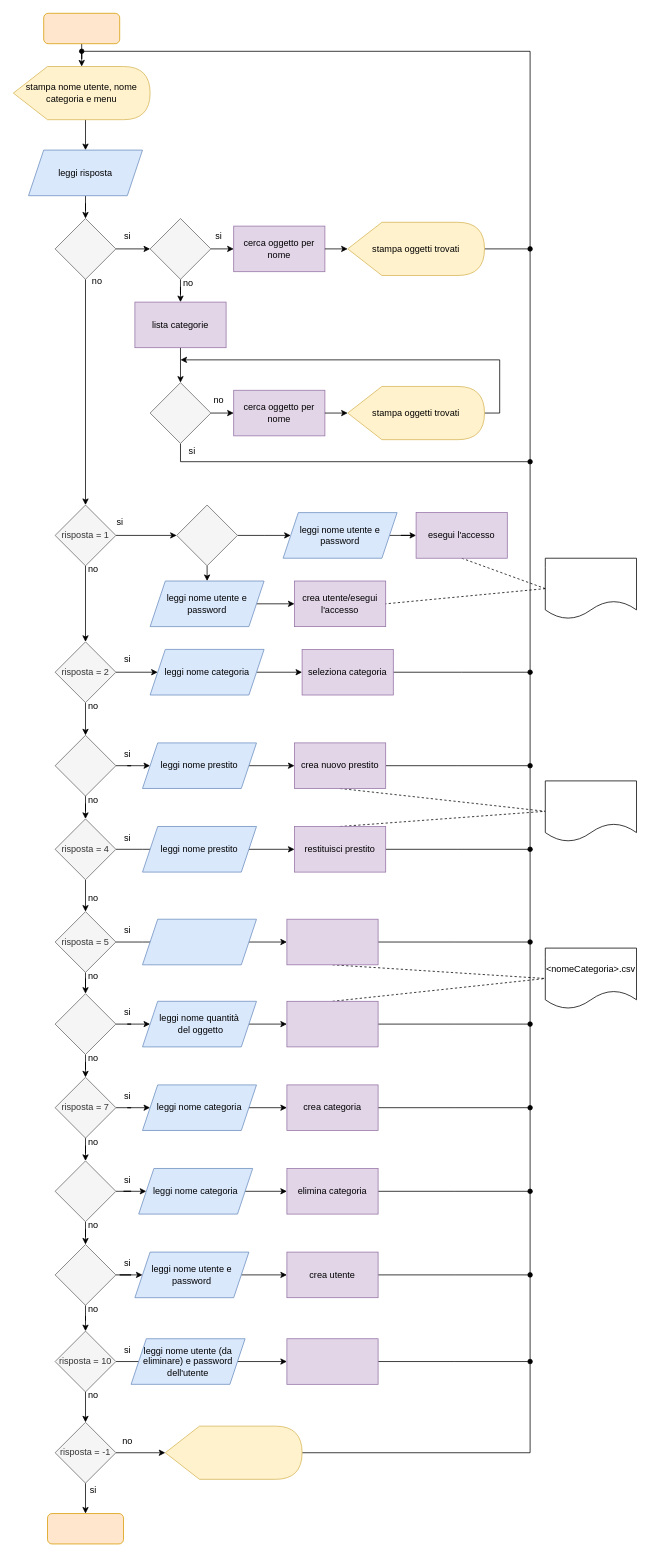
This 650x1557 diagram has some shape labels left out. The box of each missing label's shape, as (x1, y1, x2, y2) in pixels:
<nomeUtente>.csv: (545, 780, 636, 842)
crea oggetto: (286, 918, 378, 965)
elimina oggetto: (286, 1001, 378, 1047)
elimina utente: (286, 1338, 378, 1384)
esistono utenti?: (176, 504, 238, 566)
Fine: (47, 1513, 124, 1544)
fine lista?: (149, 382, 211, 443)
Inizio: (43, 13, 120, 44)
leggi nome, quantità, descrizione oggetto: (142, 918, 256, 965)
presente categoria: (149, 218, 211, 279)
risposta = 0: (54, 218, 116, 279)
risposta = 3: (54, 735, 116, 796)
risposta = 6: (54, 993, 116, 1054)
risposta = 8: (54, 1160, 116, 1222)
risposta = 9: (54, 1244, 116, 1305)
stampa comando non trovato: (165, 1425, 302, 1479)
utenti.txt: (545, 557, 636, 619)
